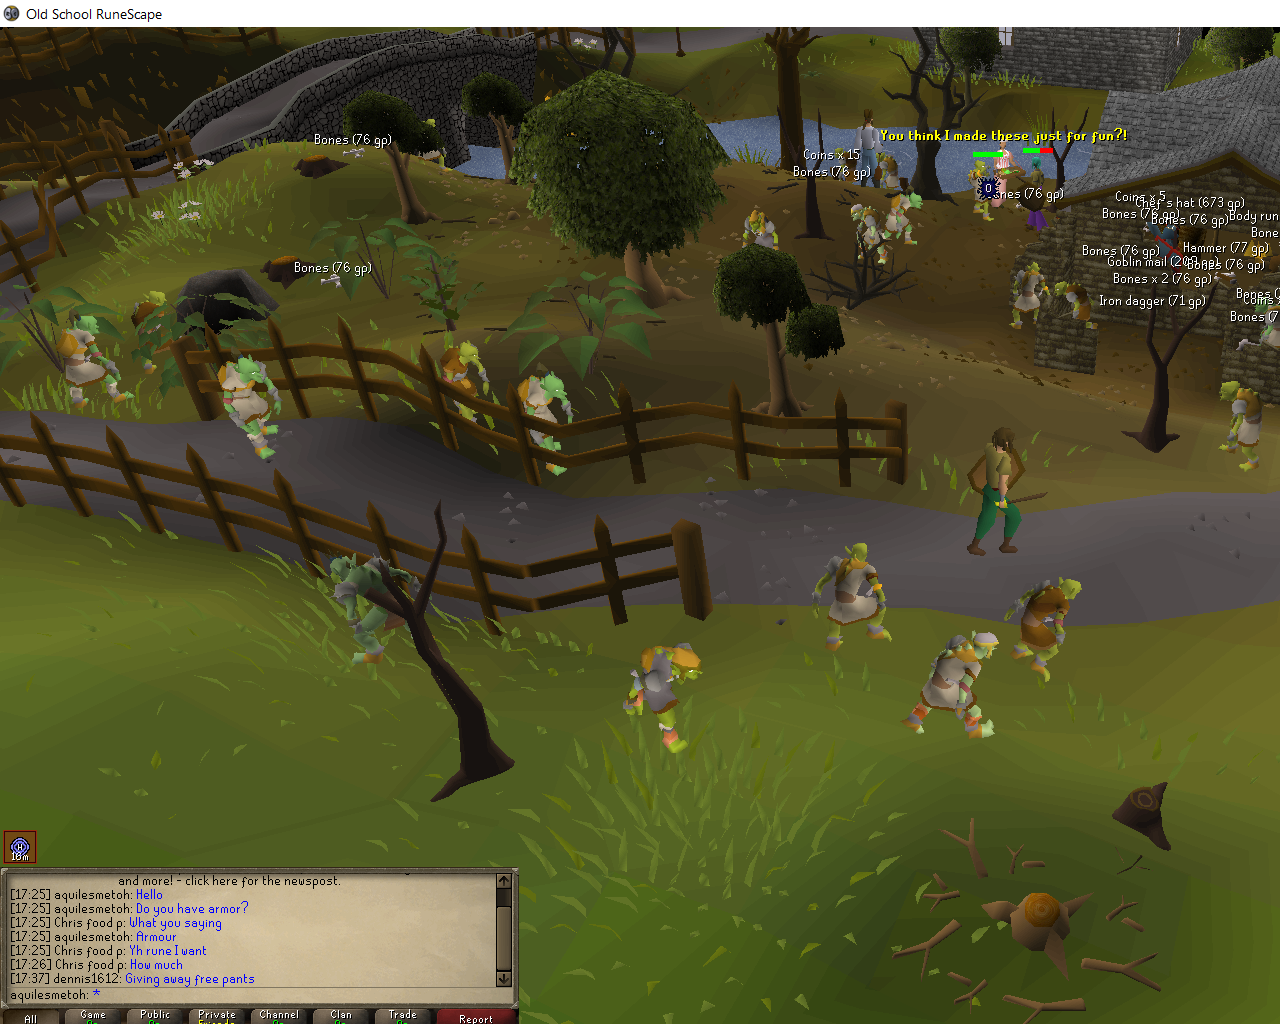Goblin: (899, 627, 1008, 744), (324, 553, 434, 668), (209, 353, 306, 467), (804, 536, 898, 653), (1001, 569, 1087, 682), (46, 311, 139, 411), (512, 368, 583, 478), (432, 339, 494, 430), (1212, 376, 1267, 476), (130, 285, 178, 379), (1007, 260, 1053, 330), (1055, 278, 1106, 335), (848, 203, 892, 267), (880, 191, 929, 247), (965, 157, 1000, 224), (736, 208, 779, 256), (876, 152, 906, 197), (832, 147, 865, 187)
